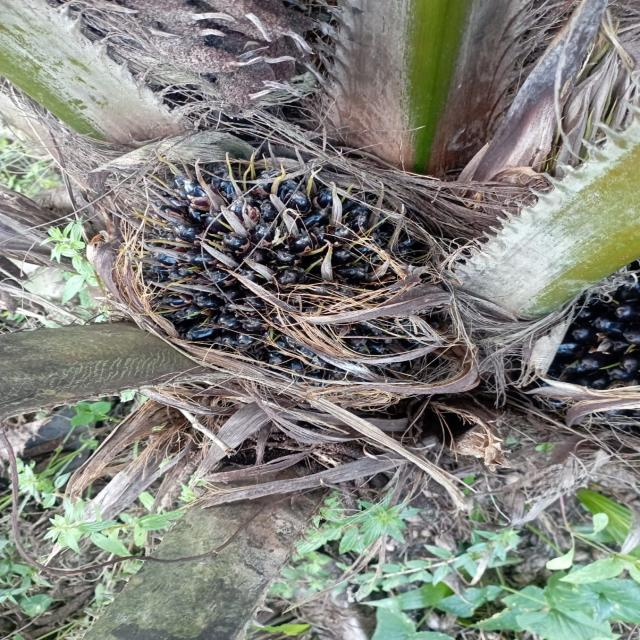fraksi 00: (24, 76, 532, 467)
